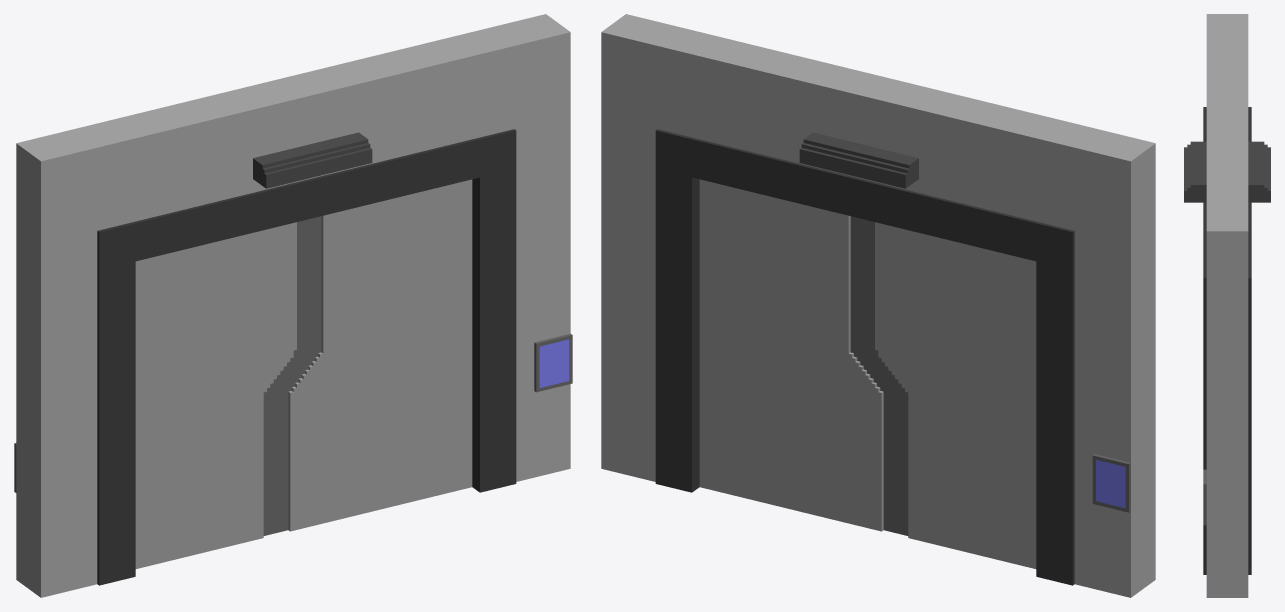
File: Operating_room_Door3-3-1.fbx
The picture shows the model from 3 angles, left to right: view 1: azimuth 30°, elevation 25°; view 2: azimuth 150°, elevation 25°; view 3: azimuth 270°, elevation 25°; orthographic projection. The views are drawn at different scales.
Parts seen in each view (by area): view 1: Operating room Door3-3-1.003, Operating room Door3-3-1.008, Operating room Door3-3-1.002, Operating room Door3-3-1.001, Operating room Door3-3-1.009, Operating room Door3-3-1.014; view 2: Operating room Door3-3-1.003, Operating room Door3-3-1.008, Operating room Door3-3-1.002, Operating room Door3-3-1.001, Operating room Door3-3-1.009, Operating room Door3-3-1.007; view 3: Operating room Door3-3-1.009, Operating room Door3-3-1.003, Operating room Door3-3-1.001.
Part boxes in pixels (x1=…): Operating room Door3-3-1.003: x1=73, y1=28, x2=516, y2=585; Operating room Door3-3-1.008: x1=275, y1=179, x2=472, y2=533; Operating room Door3-3-1.002: x1=135, y1=219, x2=308, y2=568; Operating room Door3-3-1.001: x1=14, y1=129, x2=97, y2=597; Operating room Door3-3-1.009: x1=490, y1=14, x2=572, y2=481; Operating room Door3-3-1.014: x1=539, y1=339, x2=569, y2=387; Operating room Door3-3-1.003: x1=655, y1=28, x2=1098, y2=585; Operating room Door3-3-1.008: x1=699, y1=179, x2=896, y2=533; Operating room Door3-3-1.002: x1=863, y1=219, x2=1036, y2=568; Operating room Door3-3-1.001: x1=1074, y1=129, x2=1155, y2=597; Operating room Door3-3-1.009: x1=601, y1=14, x2=681, y2=481; Operating room Door3-3-1.007: x1=1096, y1=459, x2=1125, y2=508; Operating room Door3-3-1.009: x1=1203, y1=208, x2=1248, y2=597; Operating room Door3-3-1.003: x1=1184, y1=37, x2=1270, y2=574; Operating room Door3-3-1.001: x1=1206, y1=14, x2=1248, y2=36.
Bounding box in the file's own units: 16 × 12.6 × 2.7.
